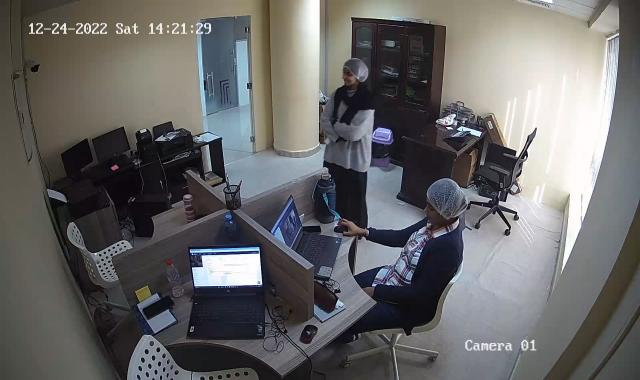hairnet: (426, 181, 468, 226), (342, 59, 372, 90)
